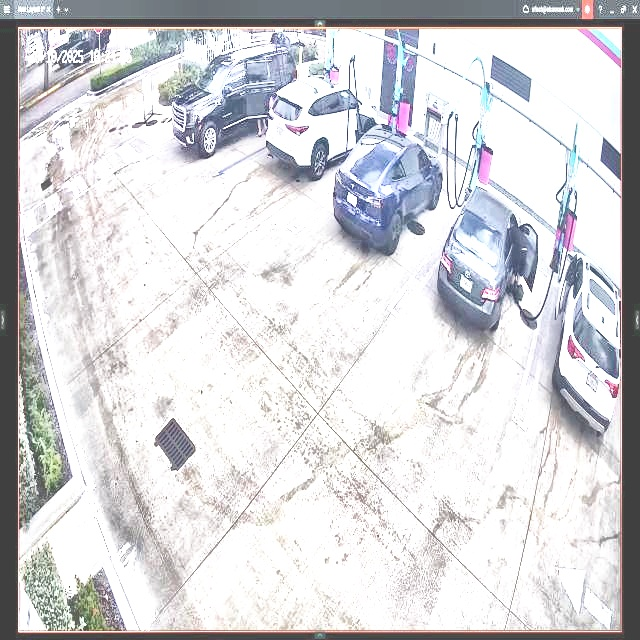Car: (333, 123, 444, 251), (440, 188, 535, 322), (267, 76, 377, 173)
